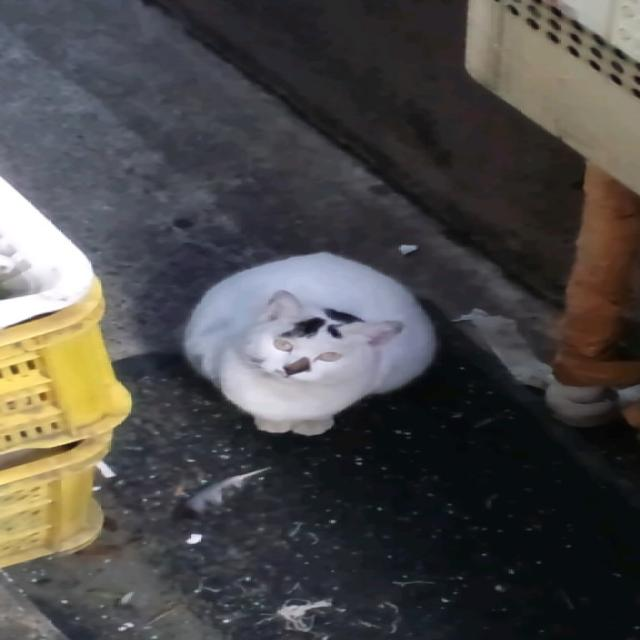Cat: (185, 252, 441, 436)
